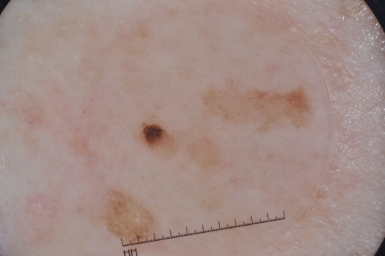seborrheic keratosis: (75, 74, 311, 186)
